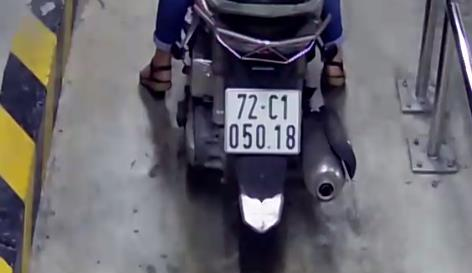lisence: (225, 87, 300, 153)
